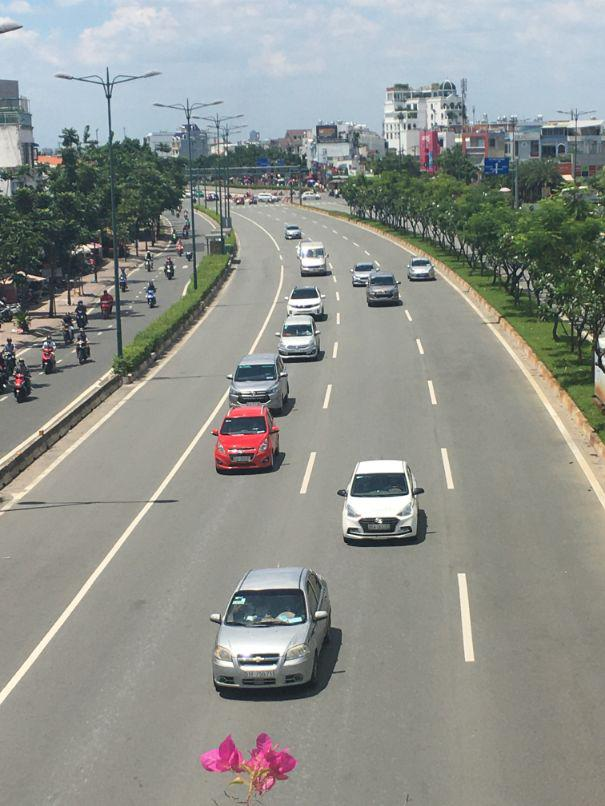car: (205, 564, 341, 698), (339, 460, 427, 546), (213, 405, 281, 473), (230, 354, 293, 419), (278, 316, 322, 362), (286, 285, 325, 320), (367, 271, 400, 307), (297, 242, 327, 277), (407, 258, 436, 281), (354, 264, 377, 287), (285, 226, 302, 242)
motorbike: (14, 370, 33, 401)
